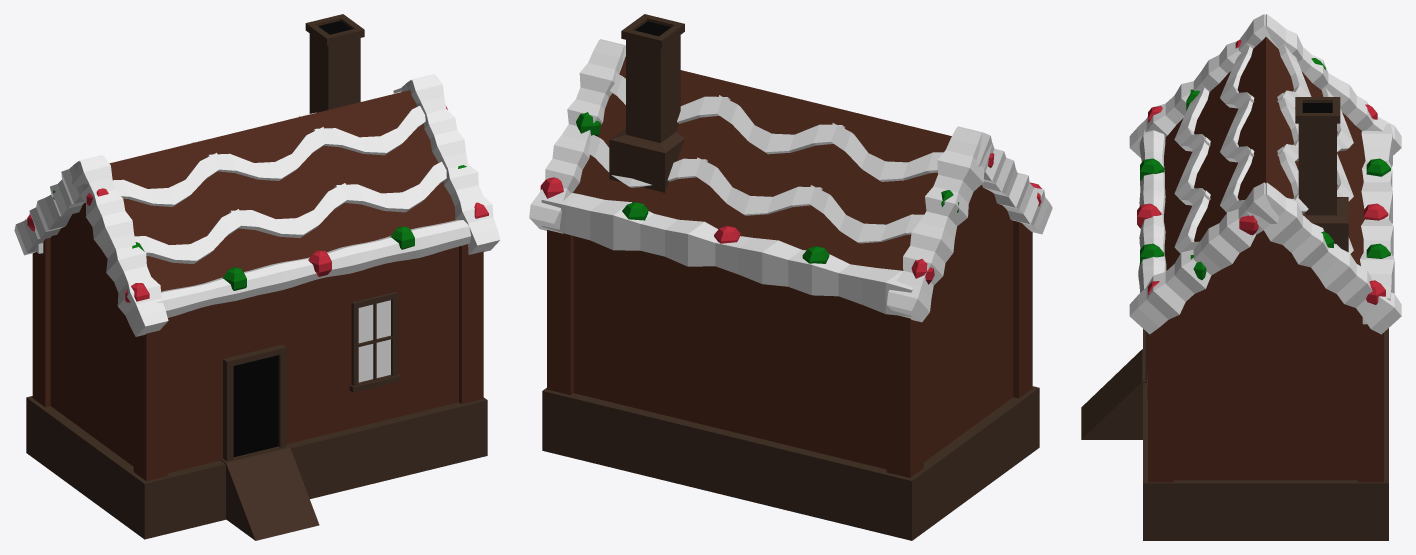
File: Worker_House_1.fbx
The picture shows the model from 3 angles, left to right: view 1: azimuth 30°, elevation 25°; view 2: azimuth 150°, elevation 25°; view 3: azimuth 270°, elevation 25°; orthographic projection. The views are drawn at different scales.
Visible parts, largest first — view 1: Home Base, Home Base.001, Home Base.002, Home Base.007, Home Base.020, Home Base.022, Home Base.009, Home Base.005, Home Base.021, Home Base.012, Home Base.011, Home Base.008 (+8 smaller); view 2: Home Base, Home Base.001, Home Base.006, Home Base.021, Home Base.008, Home Base.011, Home Base.010, Home Base.013, Home Base.005, Home Base.007, Home Base.037, Home Base.040 (+4 smaller); view 3: Home Base, Home Base.001, Home Base.009, Home Base.010, Home Base.021, Home Base.012, Home Base.013, Home Base.022, Home Base.006, Home Base.007, Home Base.008, Home Base.002 (+11 smaller).
Boxes of the visible parts, x1=… form: Home Base: x1=50, y1=90, x2=458, y2=472; Home Base.001: x1=26, y1=396, x2=487, y2=539; Home Base.002: x1=156, y1=220, x2=471, y2=317; Home Base.007: x1=72, y1=156, x2=168, y2=336; Home Base.020: x1=223, y1=344, x2=286, y2=461; Home Base.022: x1=220, y1=445, x2=319, y2=540; Home Base.009: x1=408, y1=75, x2=500, y2=254; Home Base.005: x1=133, y1=318, x2=168, y2=481; Home Base.021: x1=305, y1=14, x2=364, y2=113; Home Base.012: x1=459, y1=244, x2=483, y2=404; Home Base.011: x1=32, y1=237, x2=50, y2=407; Home Base.008: x1=14, y1=155, x2=102, y2=255; Home Base: x1=573, y1=56, x2=1013, y2=469; Home Base.001: x1=542, y1=386, x2=1039, y2=540; Home Base.006: x1=541, y1=193, x2=913, y2=316; Home Base.021: x1=609, y1=14, x2=684, y2=192; Home Base.008: x1=887, y1=127, x2=991, y2=322; Home Base.011: x1=886, y1=314, x2=923, y2=477; Home Base.010: x1=529, y1=40, x2=624, y2=233; Home Base.013: x1=547, y1=230, x2=573, y2=395; Home Base.005: x1=1013, y1=220, x2=1032, y2=398; Home Base.007: x1=958, y1=126, x2=1052, y2=234; Home Base.037: x1=717, y1=95, x2=844, y2=154; Home Base.040: x1=695, y1=157, x2=822, y2=215; Home Base: x1=1164, y1=37, x2=1365, y2=480; Home Base.001: x1=1143, y1=328, x2=1388, y2=540; Home Base.009: x1=1129, y1=182, x2=1278, y2=334; Home Base.010: x1=1247, y1=182, x2=1401, y2=334; Home Base.021: x1=1295, y1=97, x2=1348, y2=252; Home Base.012: x1=1148, y1=317, x2=1173, y2=482; Home Base.013: x1=1358, y1=311, x2=1383, y2=482; Home Base.022: x1=1081, y1=349, x2=1146, y2=439; Home Base.006: x1=1360, y1=124, x2=1394, y2=324; Home Base.007: x1=1129, y1=14, x2=1278, y2=158; Home Base.008: x1=1247, y1=14, x2=1401, y2=155; Home Base.002: x1=1138, y1=130, x2=1166, y2=292.
Bounding box in the file's own units: 128 × 129 × 93.85.
